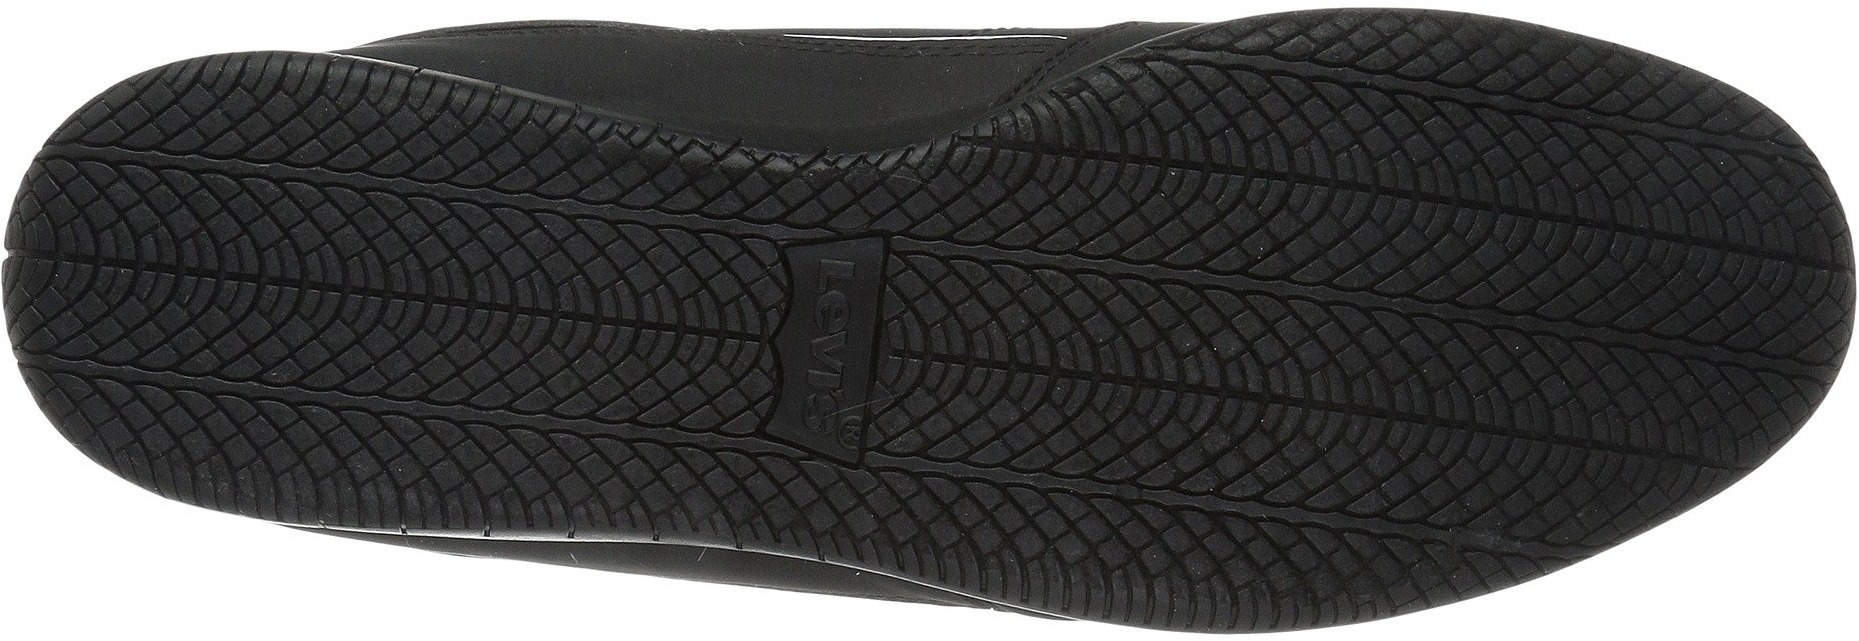quad: (943, 156, 1284, 504)
text: (792, 286, 877, 380)
